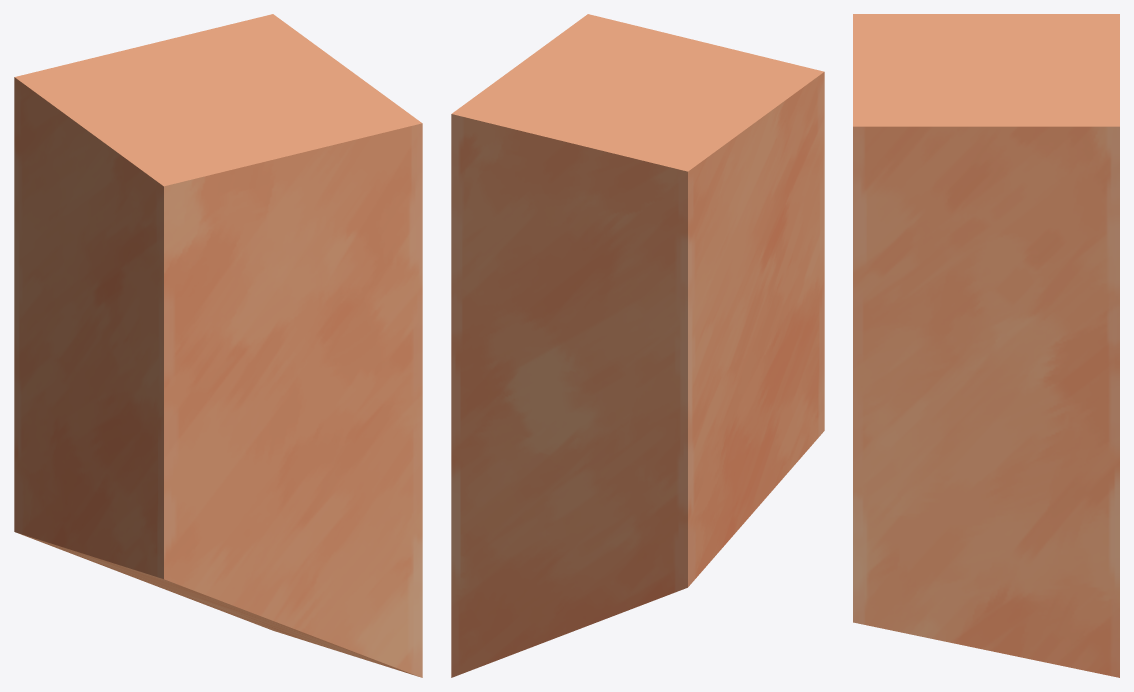
File: corner_upper_s01.fbx
3 renders of one model, left to right at view 1: azimuth 30°, elevation 25°; view 2: azimuth 150°, elevation 25°; view 3: azimuth 270°, elevation 25°, orthographic. The views are drawn at different scales.
Parts seen in each view (by area): view 1: corner_upper_s01; view 2: corner_upper_s01; view 3: corner_upper_s01.
Boxes of the visible parts, box(x1,y1,x2,y2) form: corner_upper_s01: box(14, 14, 422, 677); corner_upper_s01: box(451, 14, 824, 677); corner_upper_s01: box(853, 14, 1119, 677).
Bounding box in the file's own units: 1.5 × 3.42 × 1.5.
